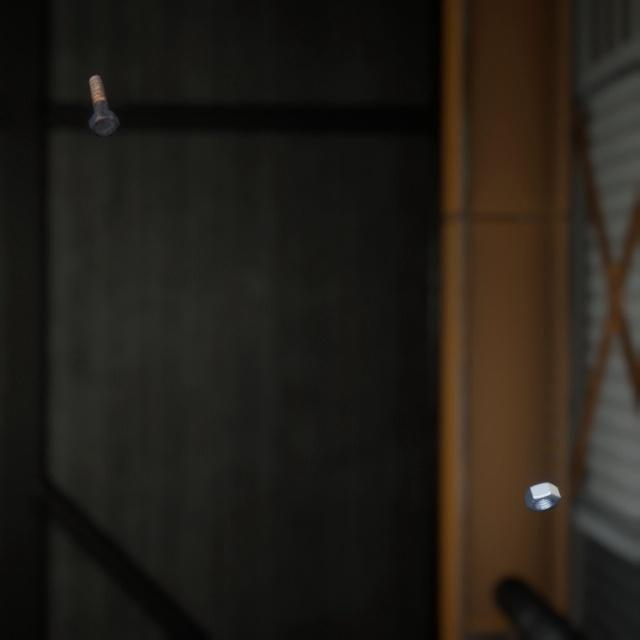bolt: (84, 59, 123, 129)
nut: (519, 456, 565, 495)
